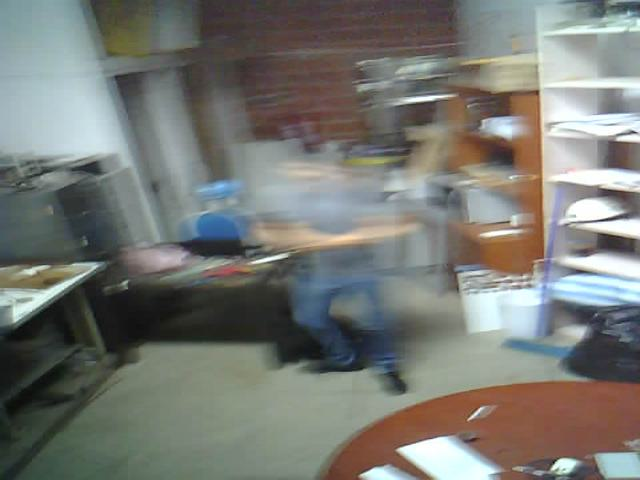person: (238, 144, 459, 413)
